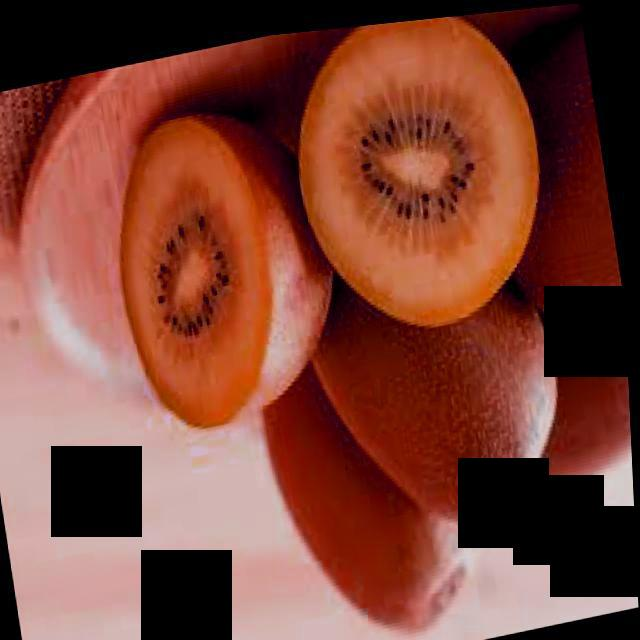kiwi: (297, 201, 584, 555), (255, 316, 500, 640), (477, 14, 631, 362)
